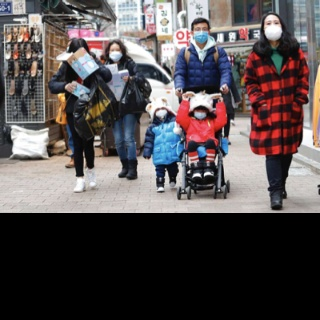with_mask: (264, 18, 282, 41), (192, 25, 208, 43), (108, 47, 122, 60), (155, 105, 168, 118), (194, 108, 206, 120)
